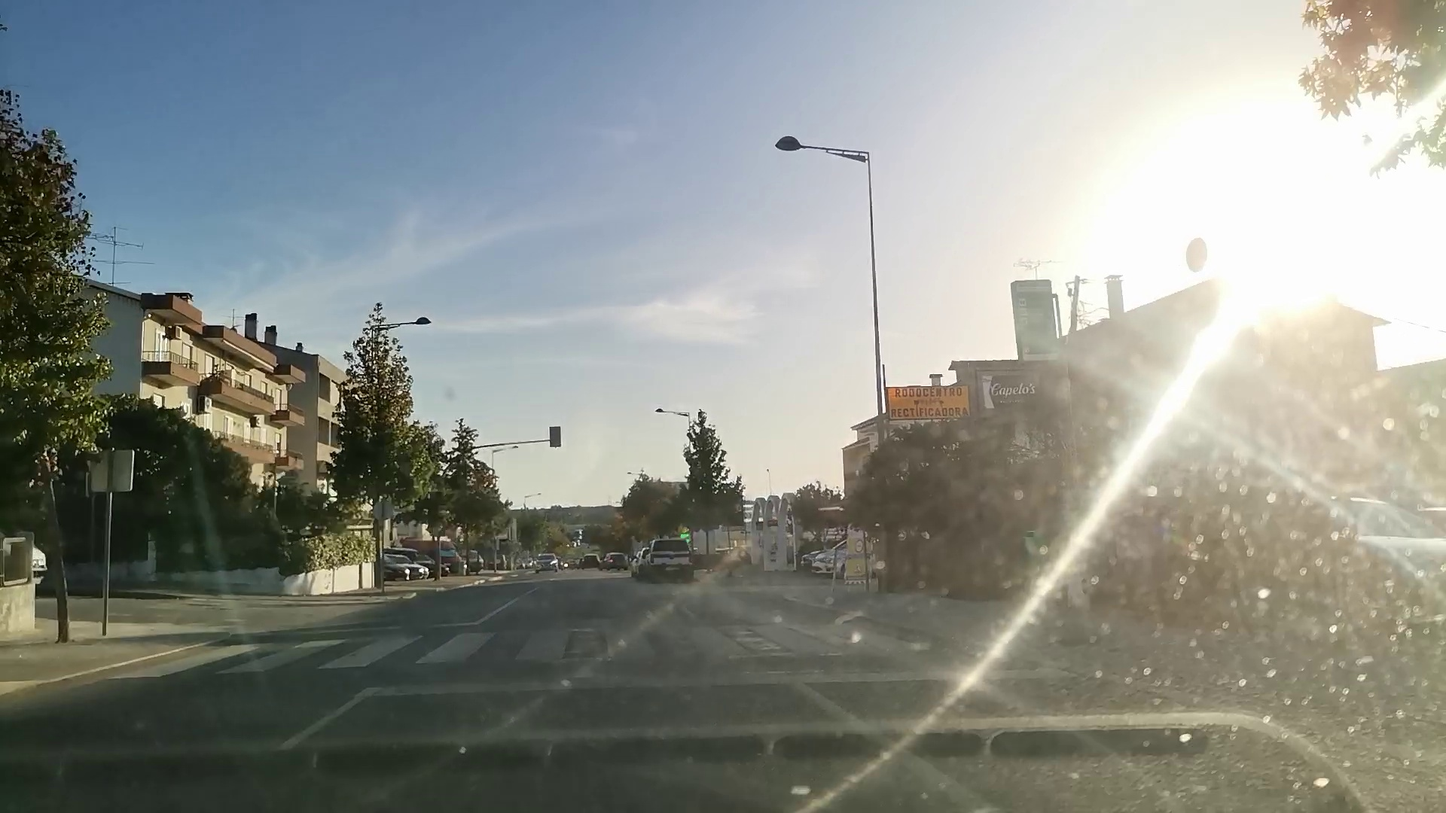Stairs: (166, 624, 671, 691)
